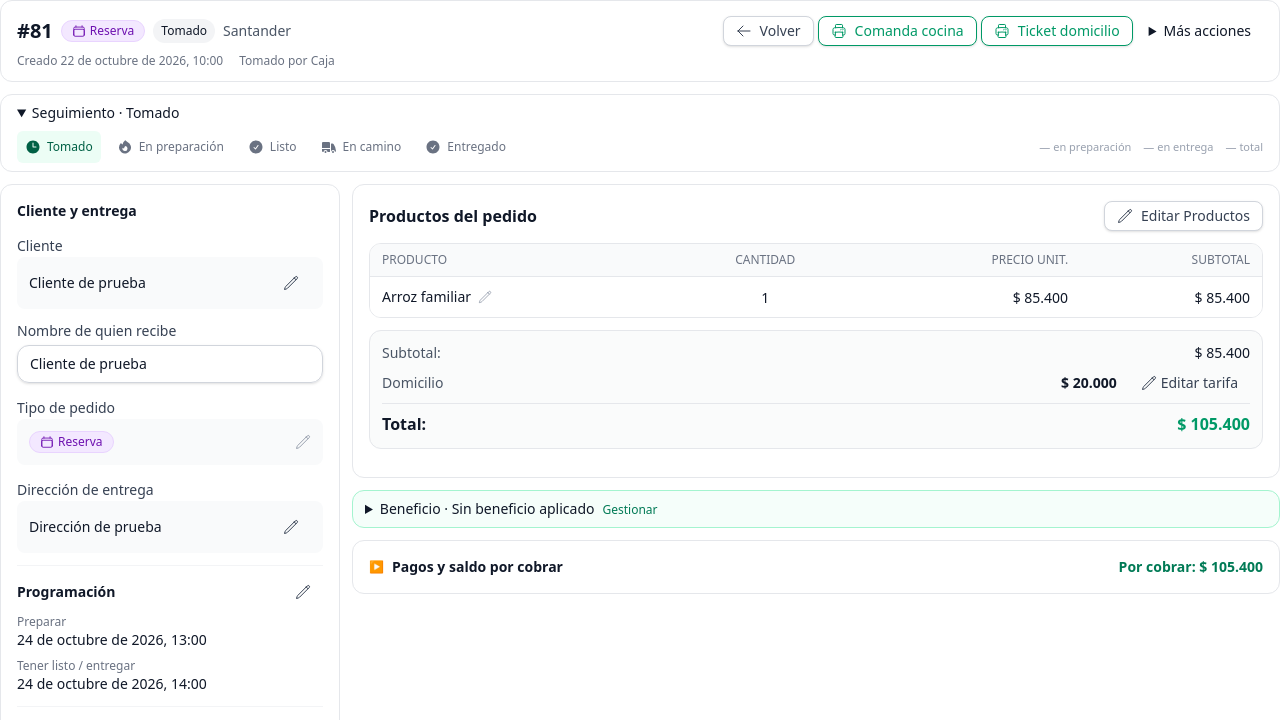
Test: OrderDetailContent presentation and reservation delivery fee › keeps product quantities in progress while confirming an external change
This screenshot has width=1280, height=720.
Click the button "Editar Productos" at (1184, 216), box x1=1104 y1=201 x2=1263 y2=231
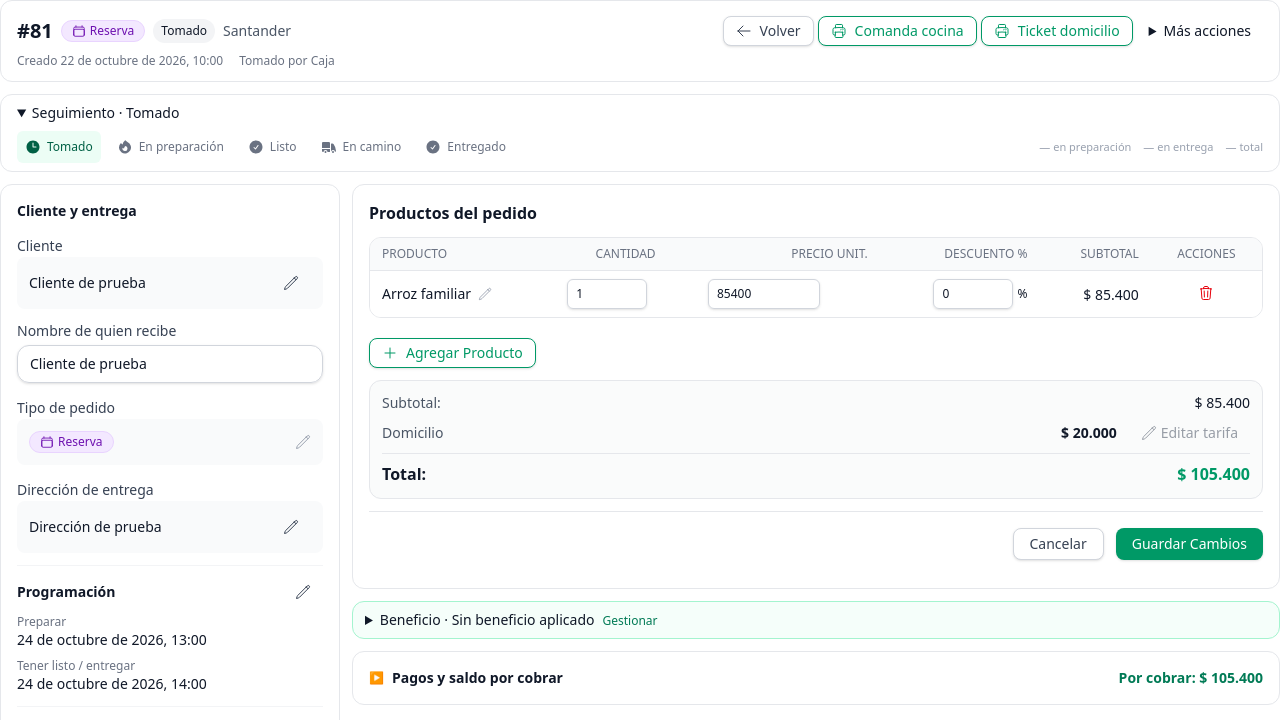
Replace the text in the number field named "Cantidad de Arroz familiar" with "3" at (607, 294), box x1=567 y1=279 x2=647 y2=309
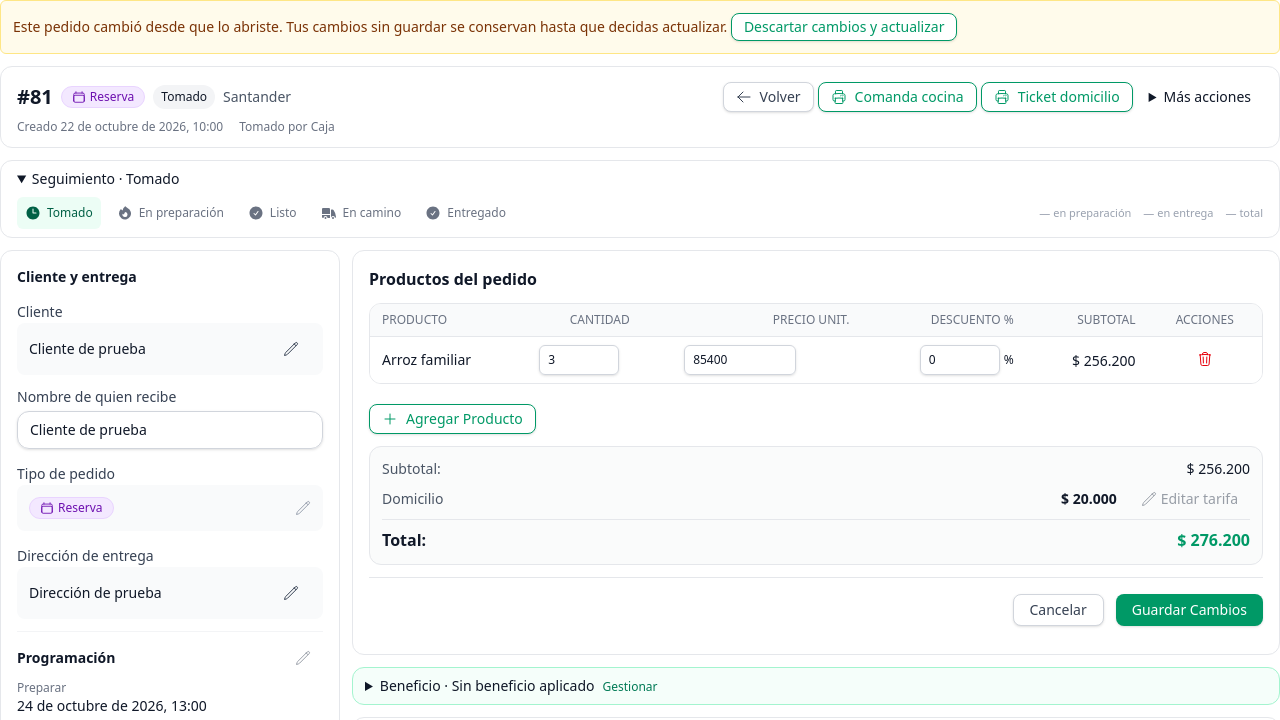
expect the message shows "Este pedido cambió": met, box x1=13 y1=17 x2=731 y2=36
